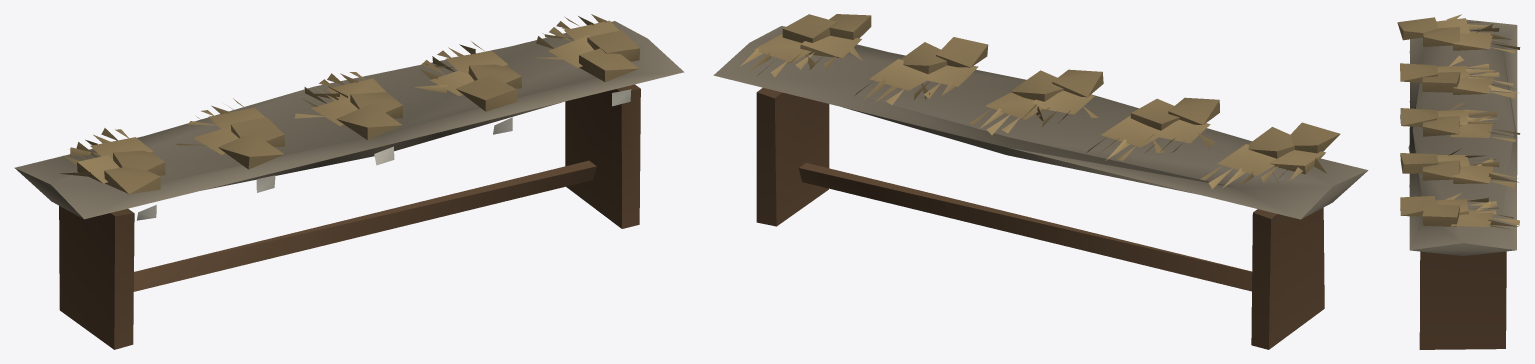
Rendered from glove_bench_a_lod2.glb.
3 renders of one model, left to right at view 1: azimuth 30°, elevation 25°; view 2: azimuth 150°, elevation 25°; view 3: azimuth 270°, elevation 25°, orthographic. The views are drawn at different scales.
Visible parts, largest first — view 1: Surface.001; view 2: Surface.001; view 3: Surface.001.
Part boxes in pixels (box(x1,y1,x2,y2)): Surface.001: box(14, 14, 684, 349); Surface.001: box(713, 14, 1368, 349); Surface.001: box(1397, 14, 1520, 349).
Size of the model in its own units: 1.9 by 0.5336 by 0.4383.
